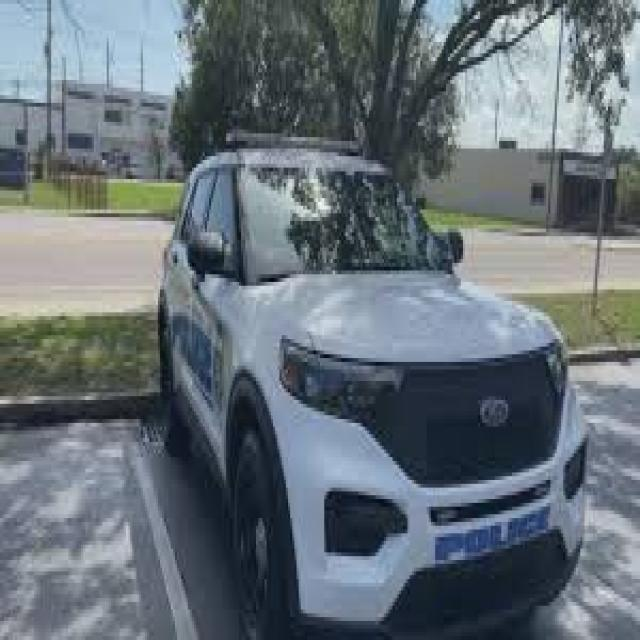cop: (159, 130, 589, 640)
